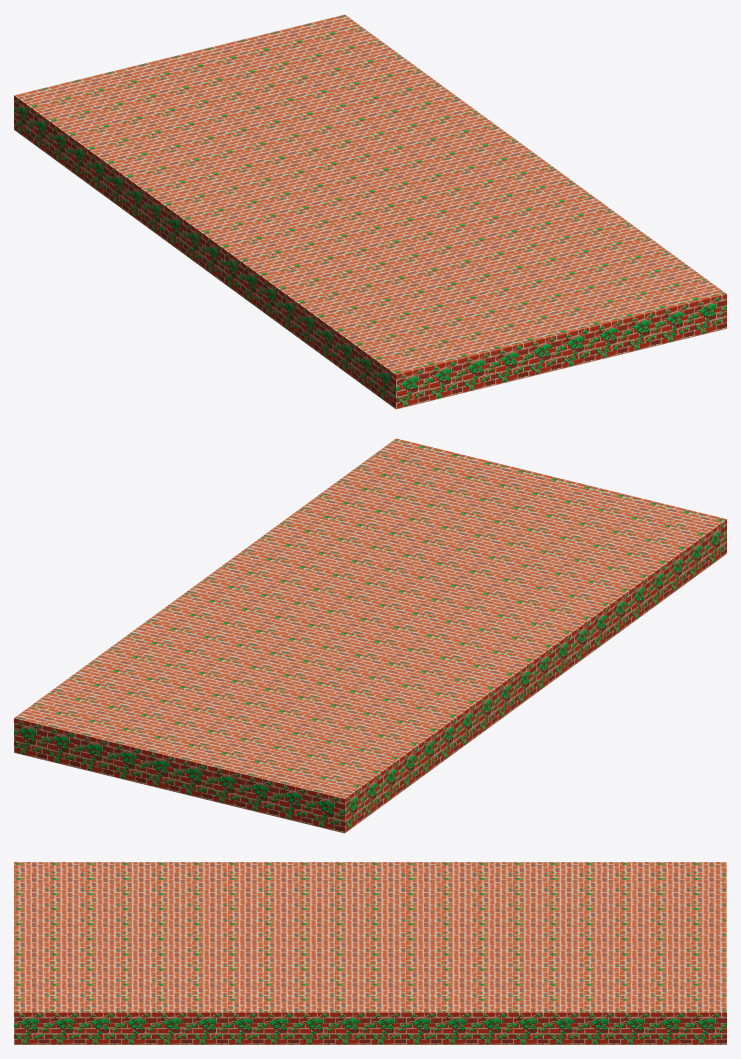
File: Goal.fbx
3 renders of one model, top to bottom at view 1: azimuth 30°, elevation 25°; view 2: azimuth 150°, elevation 25°; view 3: azimuth 270°, elevation 25°, orthographic. The views are drawn at different scales.
Parts seen in each view (by area): view 1: Terrain; view 2: Terrain; view 3: Terrain.
Boxes of the visible parts, x1,y1,x2,y2 form: Terrain: [14, 14, 726, 409]; Terrain: [14, 438, 726, 833]; Terrain: [14, 862, 726, 1044].
Bounding box in the file's own units: 10 × 1 × 20.
1 material, 1 textured.
